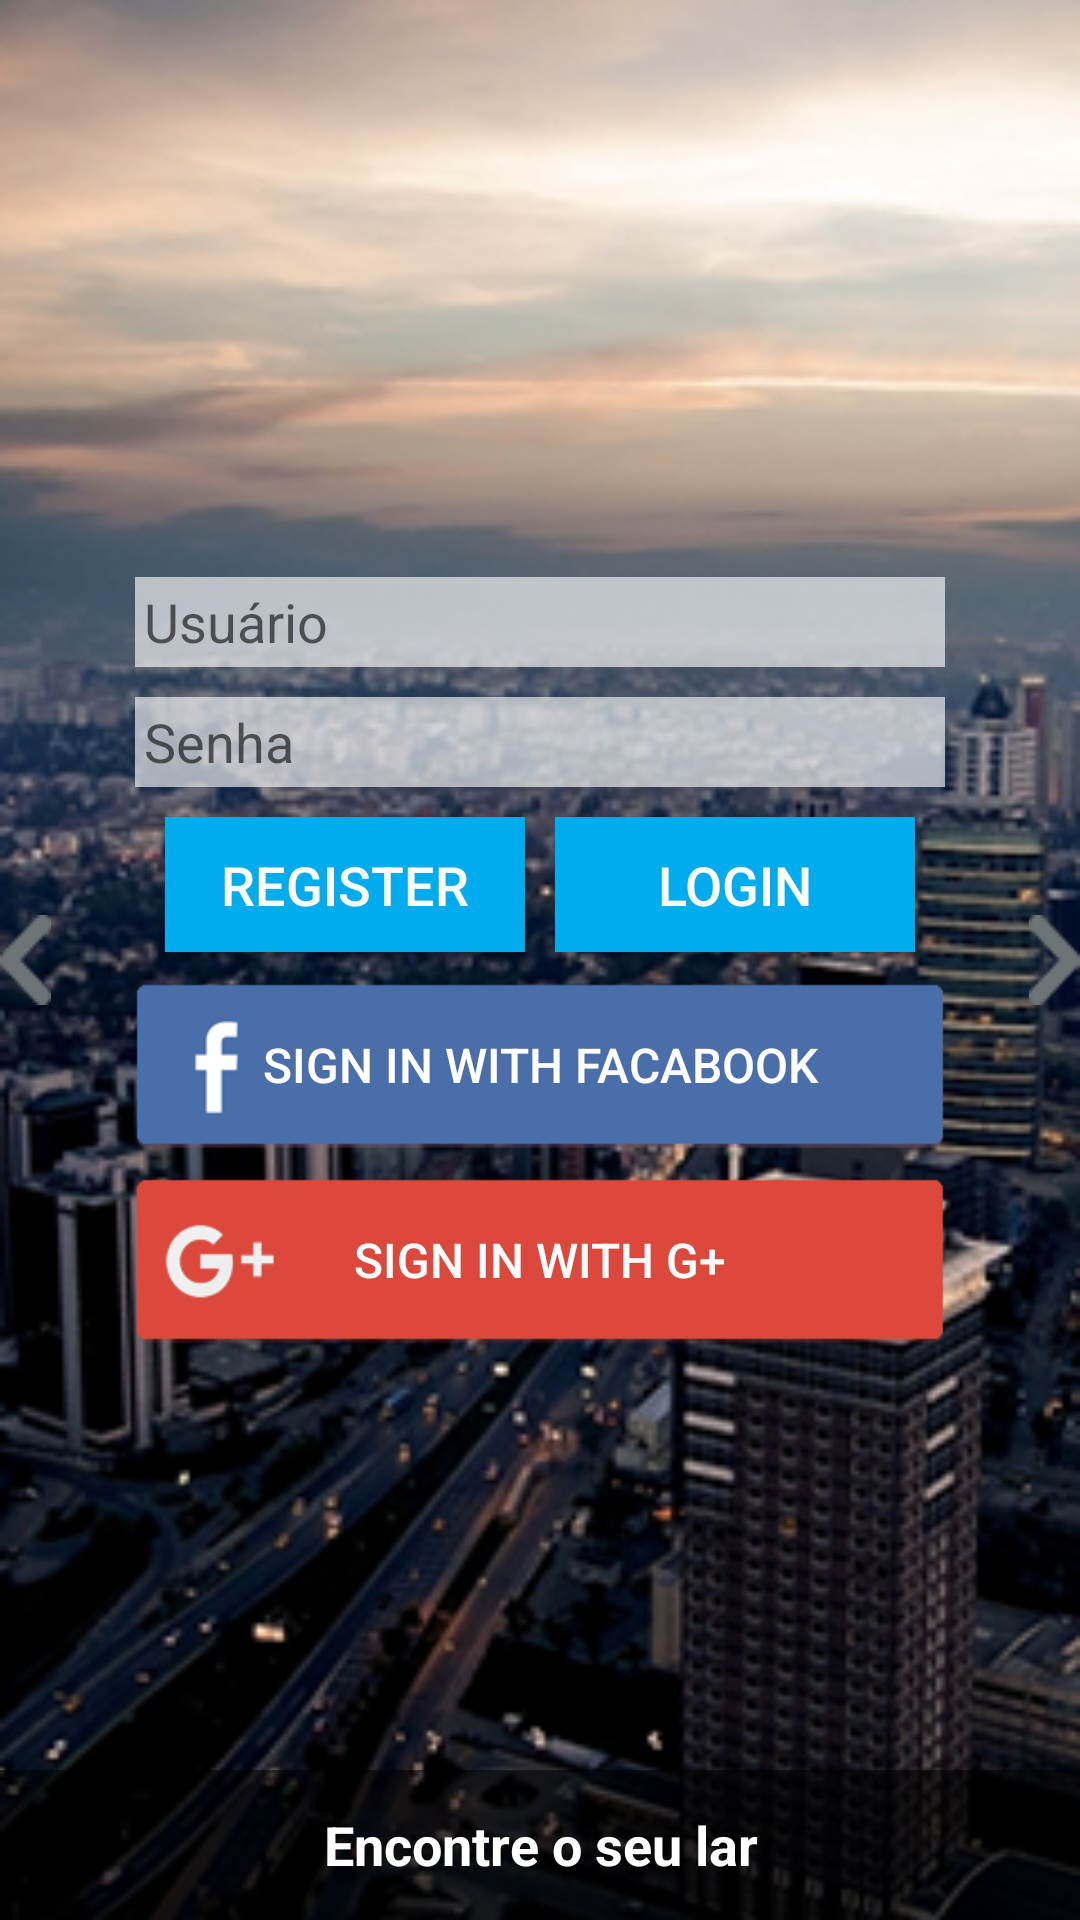

Screen size 1080px x 1920px. Icon name, then its box in pixels as Rect(x1, y1, x2, y2):
swipe left: Rect(0, 915, 51, 1005)
swipe right: Rect(1029, 915, 1080, 1005)
